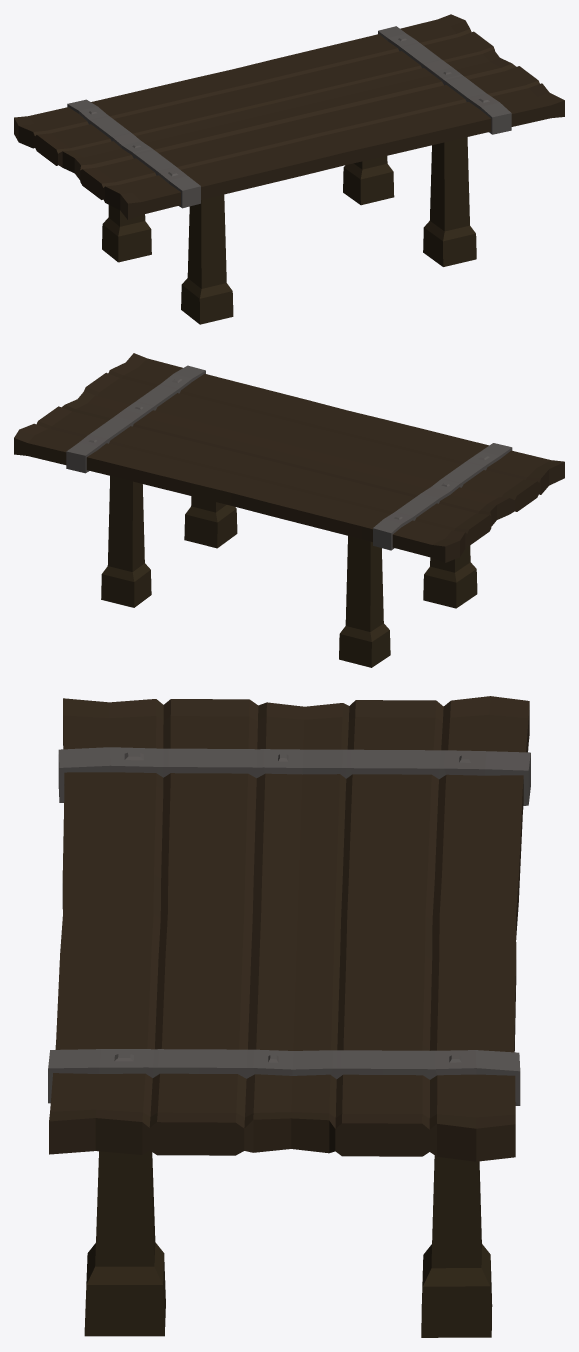
The model's file is low_table _002.fbx.
3 renders of one model, top to bottom at view 1: azimuth 30°, elevation 25°; view 2: azimuth 150°, elevation 25°; view 3: azimuth 270°, elevation 25°, orthographic. The views are drawn at different scales.
Parts seen in each view (by area): view 1: low_table _002; view 2: low_table _002; view 3: low_table _002.
Part boxes in pixels (<box>): low_table _002: <box>14,14,564,324</box>; low_table _002: <box>14,353,564,667</box>; low_table _002: <box>48,696,530,1337</box>.
Bounding box in the file's own units: 395 × 127 × 186.
